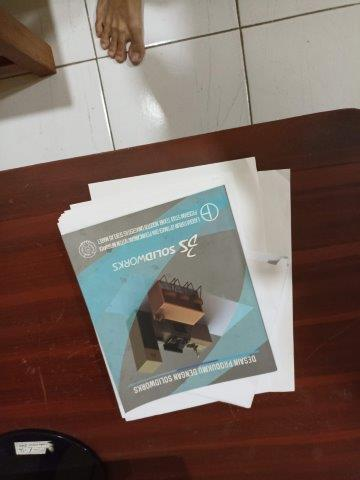kertas: (57, 157, 295, 421)
